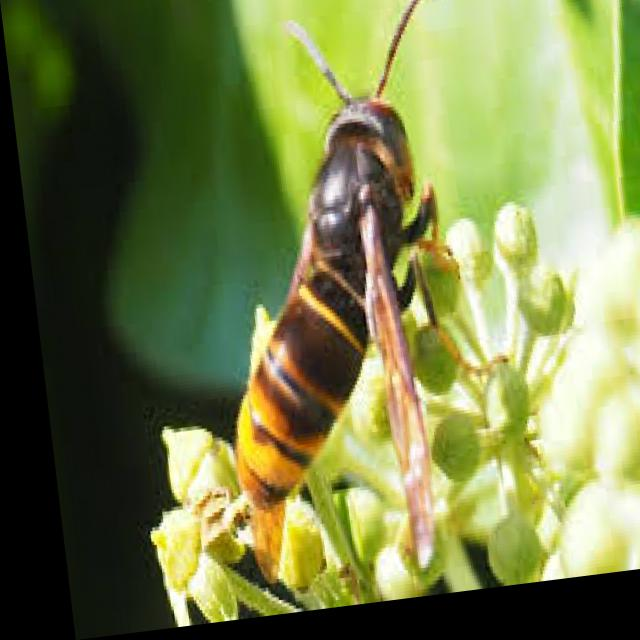Vespa Velutina: (166, 0, 530, 607)
